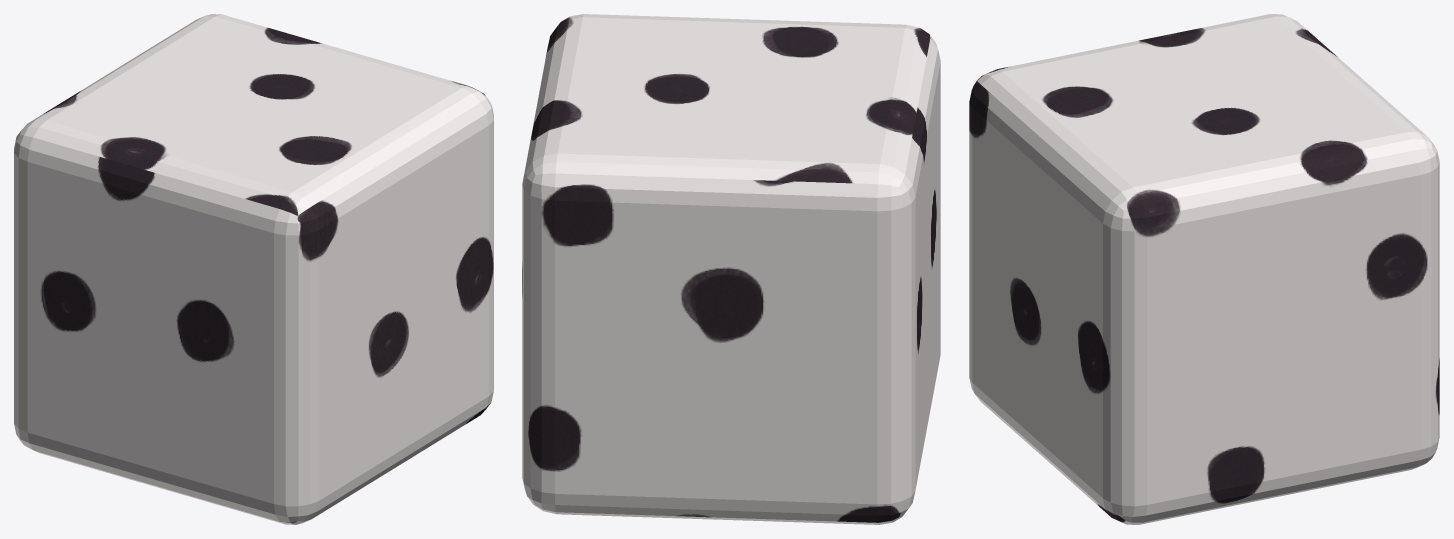
Rendered from 010_Shadow_Box_01.fbx.
3 renders of one model, left to right at view 1: azimuth 30°, elevation 25°; view 2: azimuth 150°, elevation 25°; view 3: azimuth 270°, elevation 25°, orthographic. The views are drawn at different scales.
Visible parts, largest first — view 1: Cube.021; view 2: Cube.021; view 3: Cube.021.
Boxes of the visible parts, x1=… form: Cube.021: x1=14, y1=14, x2=493, y2=524; Cube.021: x1=522, y1=14, x2=940, y2=524; Cube.021: x1=969, y1=14, x2=1439, y2=524.
Bounding box in the file's own units: 144 × 113 × 144.
